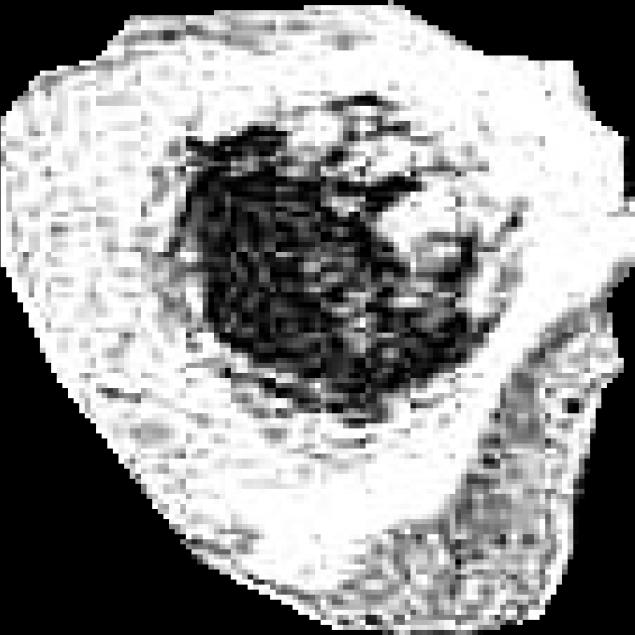tumor_moderate_chance: (1, 0, 635, 635)
